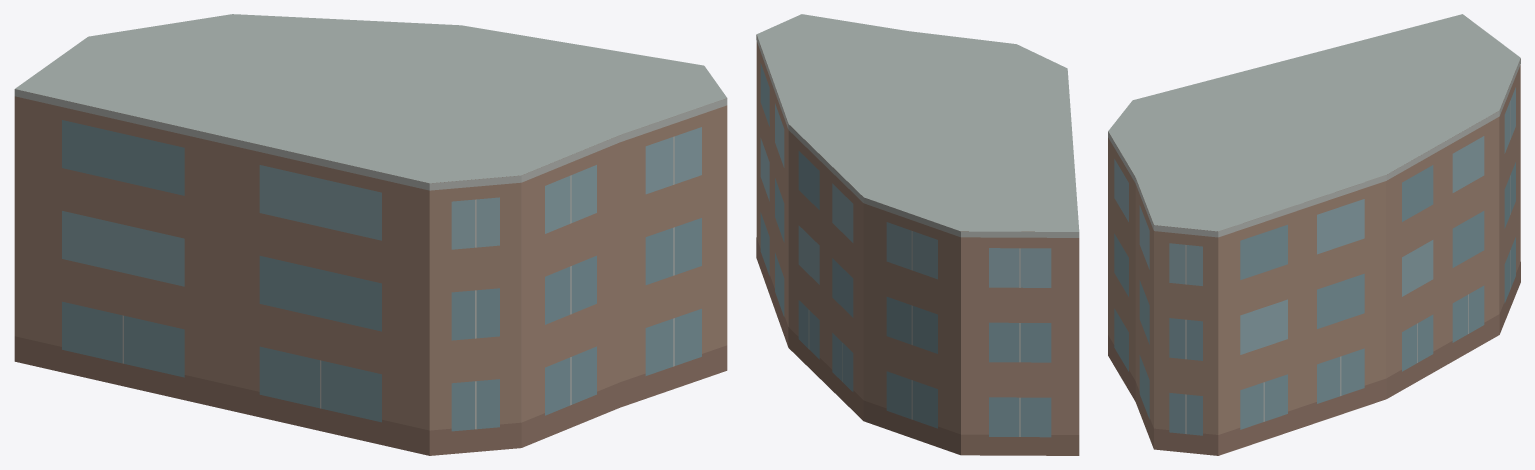
The model's file is survey-upis-32472808.glb.
3 renders of one model, left to right at view 1: azimuth 30°, elevation 25°; view 2: azimuth 150°, elevation 25°; view 3: azimuth 270°, elevation 25°, orthographic. The views are drawn at different scales.
Visible parts, largest first — view 1: survey-upis-32472808.tmp; view 2: survey-upis-32472808.tmp; view 3: survey-upis-32472808.tmp.
Boxes of the visible parts, x1,y1,x2,y2 form: survey-upis-32472808.tmp: (14,14,727,455); survey-upis-32472808.tmp: (756,14,1079,455); survey-upis-32472808.tmp: (1108,14,1520,455).
Size of the model in its own units: 19.03 by 9.15 by 15.26.
